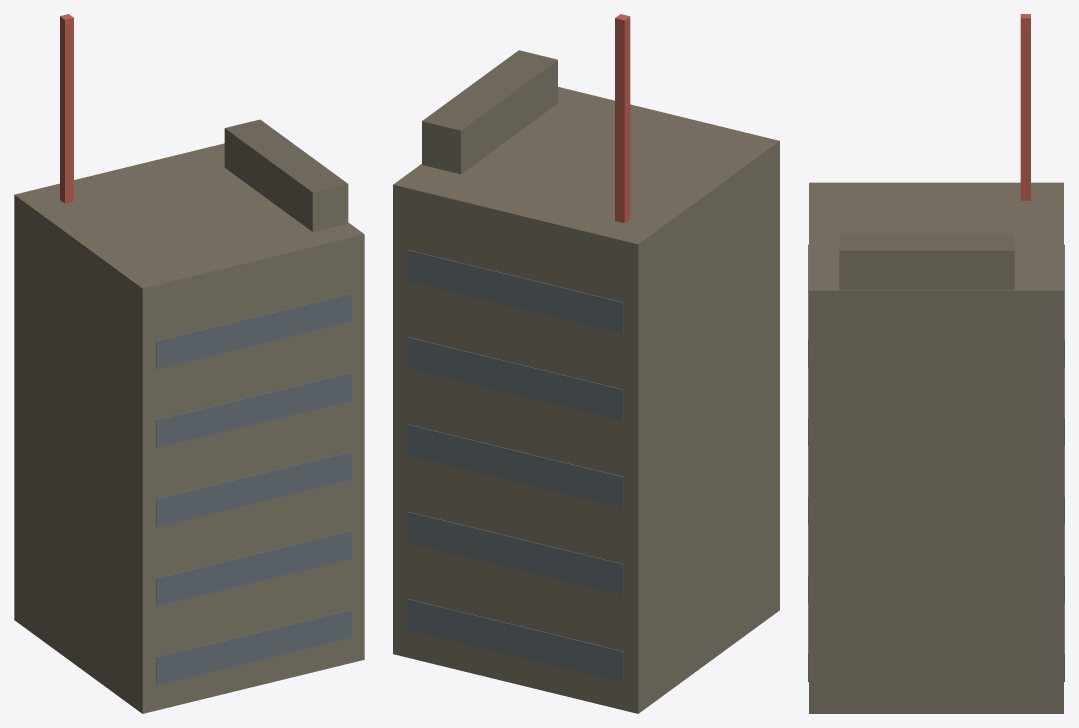
Rendered from mb-ops-tower.garrison-v1.lod2.glb.
3 renders of one model, left to right at view 1: azimuth 30°, elevation 25°; view 2: azimuth 150°, elevation 25°; view 3: azimuth 270°, elevation 25°, orthographic. The views are drawn at different scales.
Visible parts, largest first — view 1: mb-ops-tower; view 2: mb-ops-tower; view 3: mb-ops-tower.
Part boxes in pixels (<box>): mb-ops-tower: <box>14,14,364,713</box>; mb-ops-tower: <box>393,14,779,713</box>; mb-ops-tower: <box>808,14,1064,713</box>.
Bounding box in the file's own units: 10 × 26.2 × 10.06.
